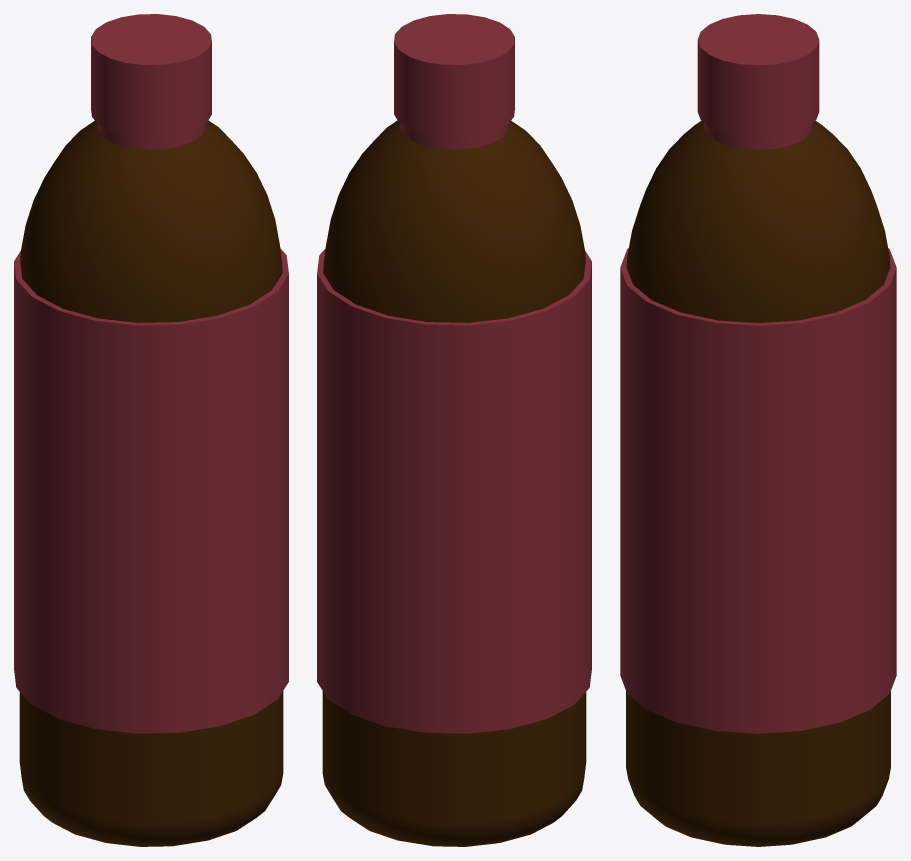
File: dr pepper bottle.fbx
The picture shows the model from 3 angles, left to right: view 1: azimuth 30°, elevation 25°; view 2: azimuth 150°, elevation 25°; view 3: azimuth 270°, elevation 25°; orthographic projection.
Parts seen in each view (by area): view 1: polySurface10; view 2: polySurface10; view 3: polySurface10.
Part boxes in pixels (left/top/right/bottom): polySurface10: left=14, top=14, right=288, bottom=846; polySurface10: left=317, top=14, right=591, bottom=846; polySurface10: left=620, top=14, right=896, bottom=846.
Size of the model in its own units: 5.08 by 15.53 by 5.08.
